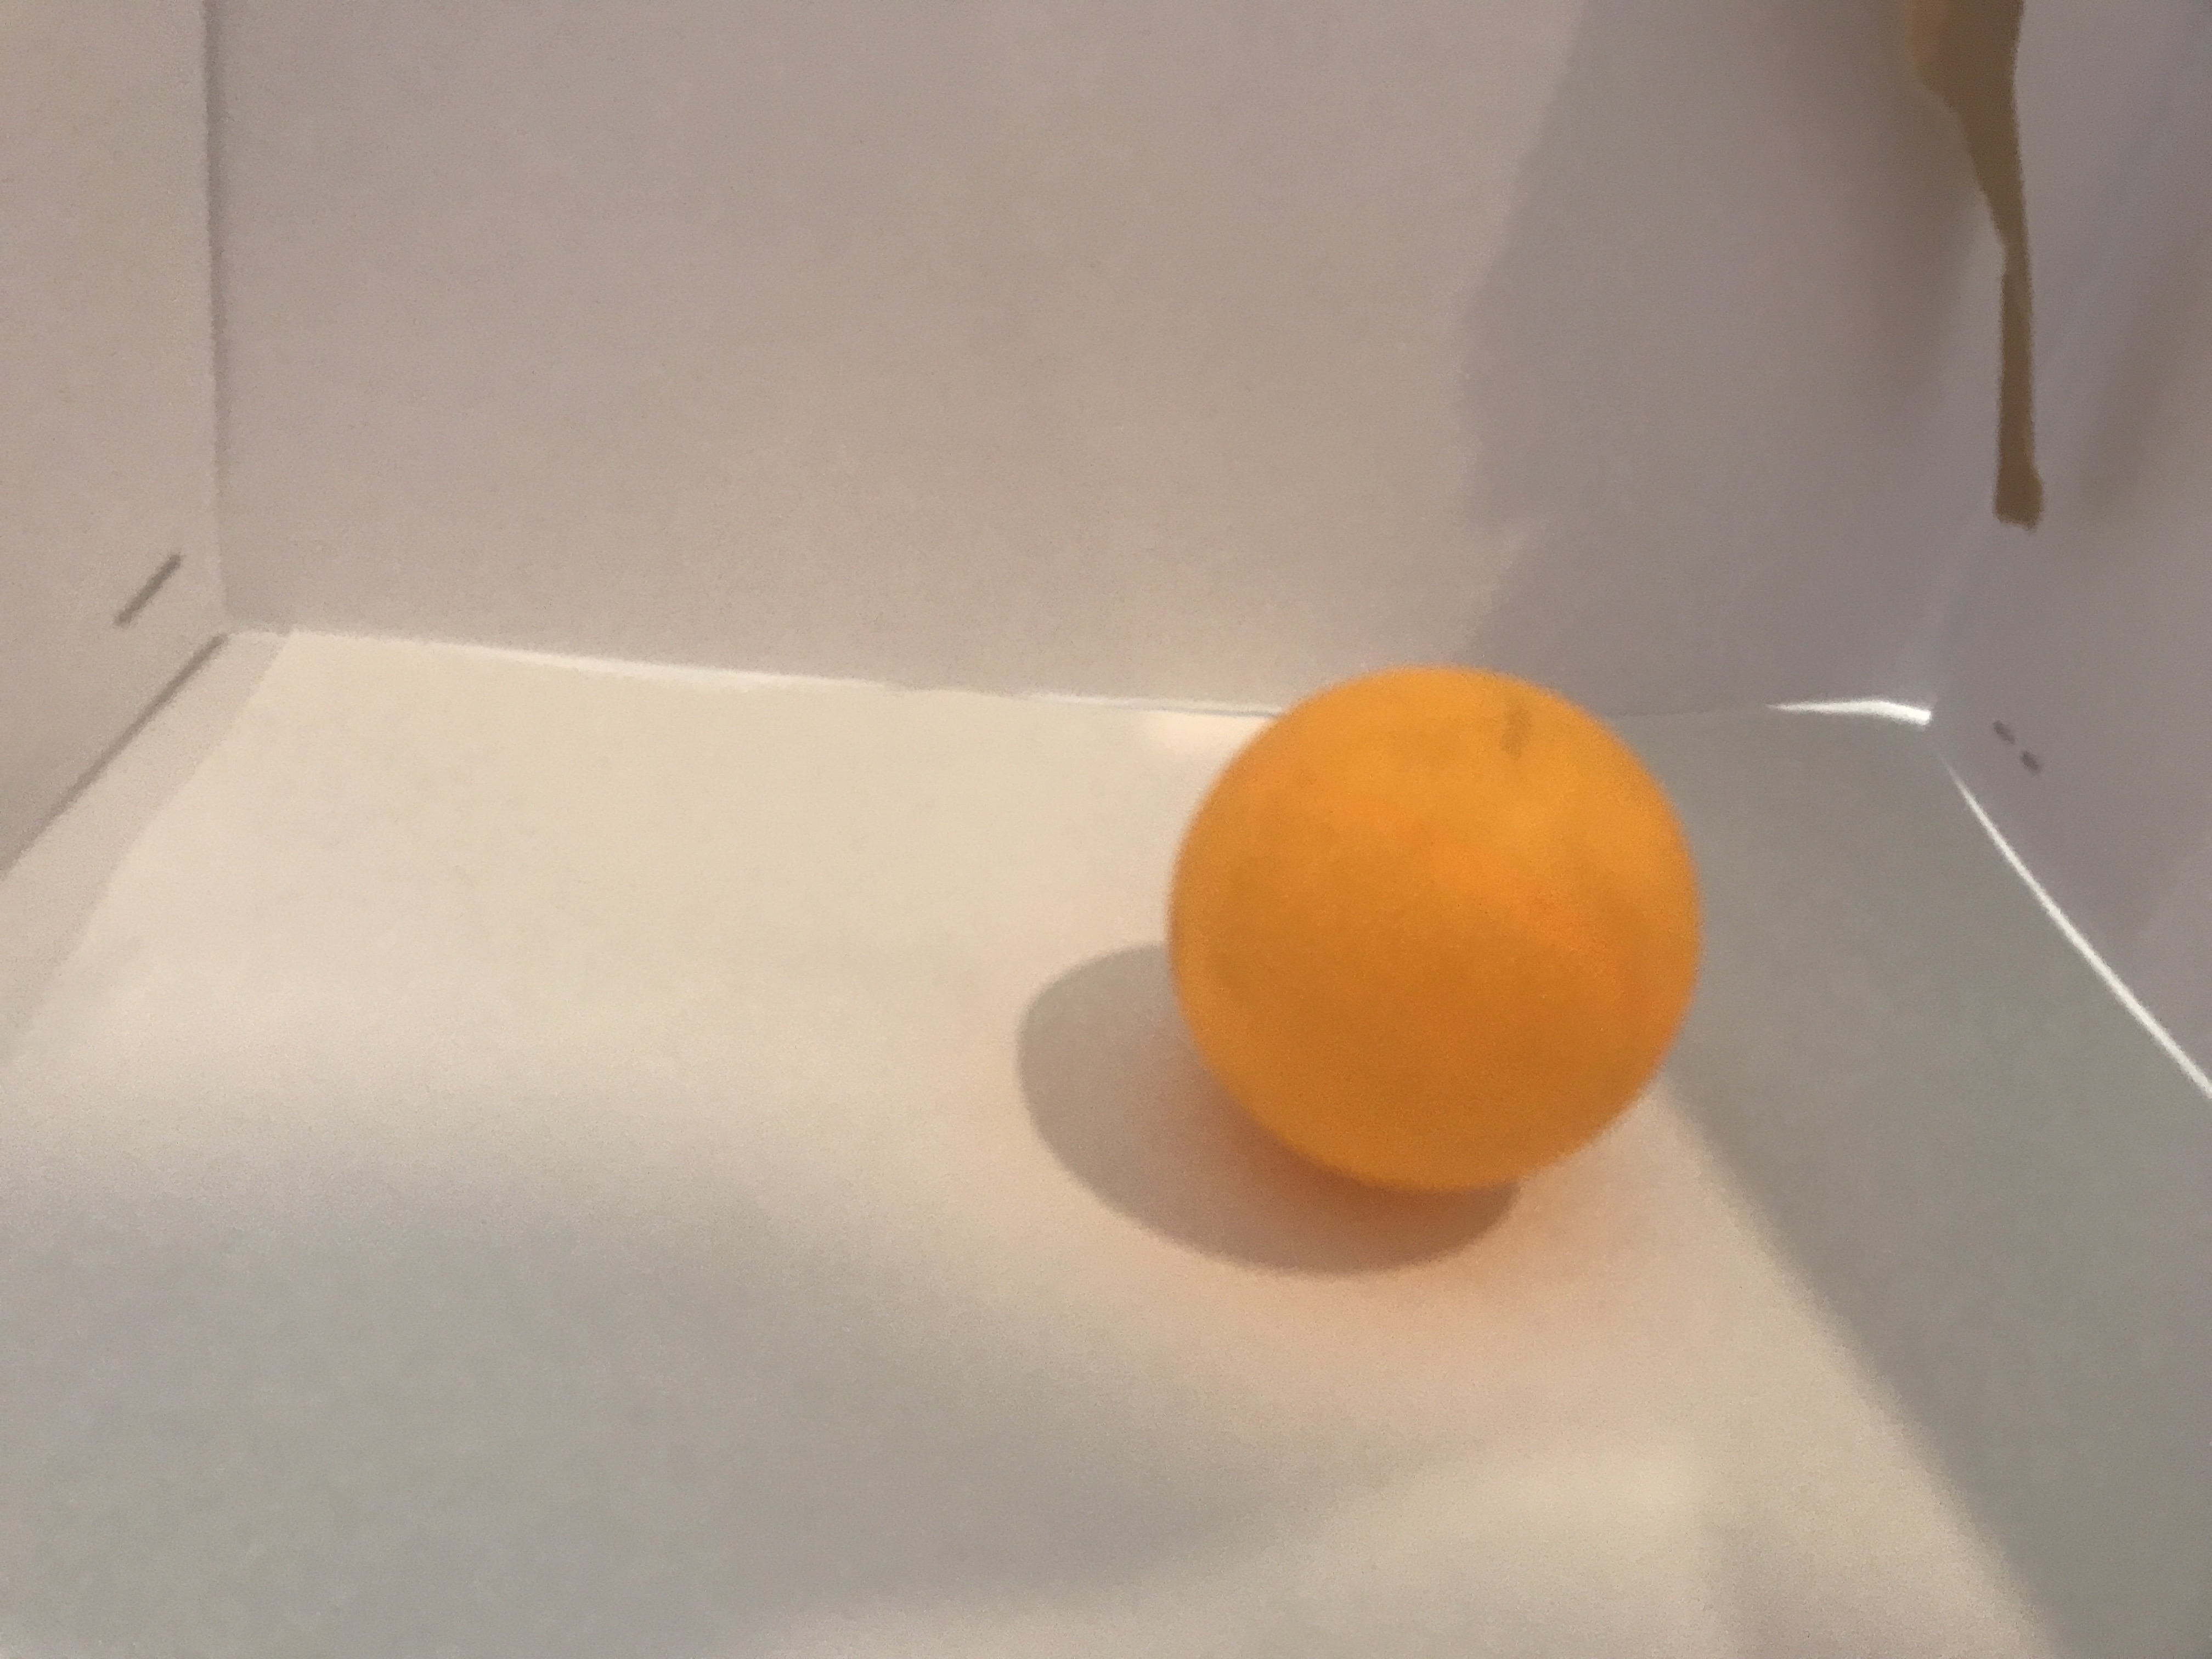pp: (1177, 662, 1707, 1188)
